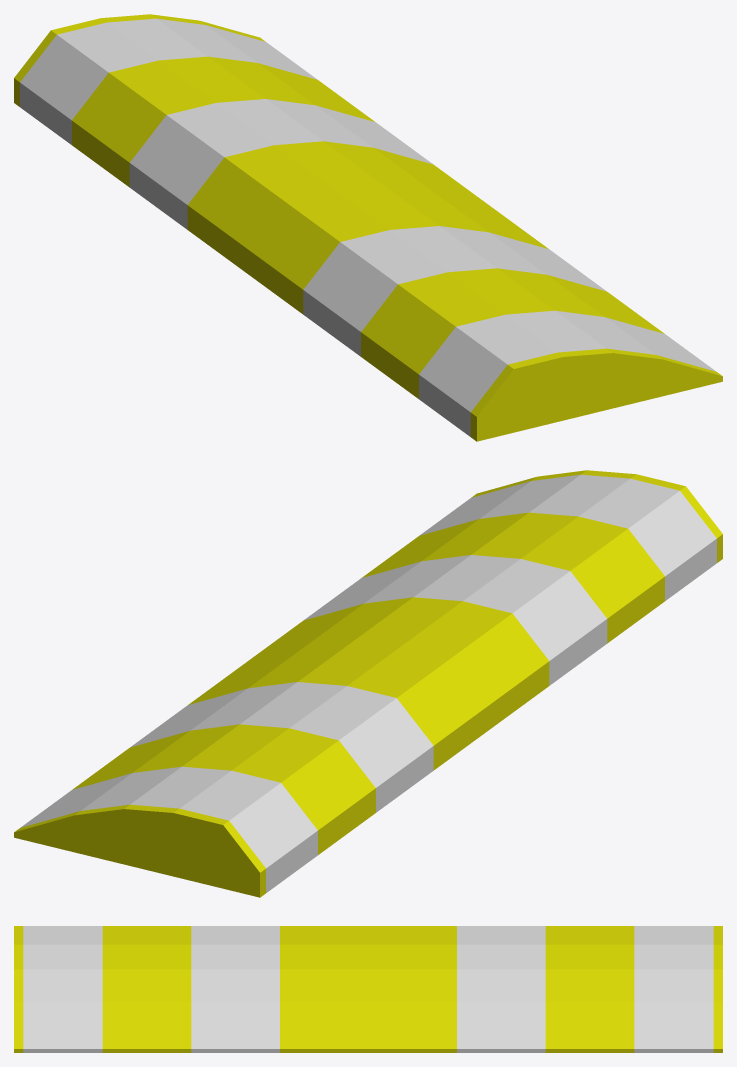
Rendered from speed bump_uv.fbx.
The picture shows the model from 3 angles, top to bottom: view 1: azimuth 30°, elevation 25°; view 2: azimuth 150°, elevation 25°; view 3: azimuth 270°, elevation 25°; orthographic projection. The views are drawn at different scales.
Parts seen in each view (by area): view 1: Spped_bump; view 2: Spped_bump; view 3: Spped_bump.
Part boxes in pixels (bbox=[...]): Spped_bump: bbox=[14, 14, 722, 441]; Spped_bump: bbox=[14, 470, 722, 897]; Spped_bump: bbox=[14, 926, 722, 1052].
Size of the model in its own units: 325 by 80.41 by 1060.
